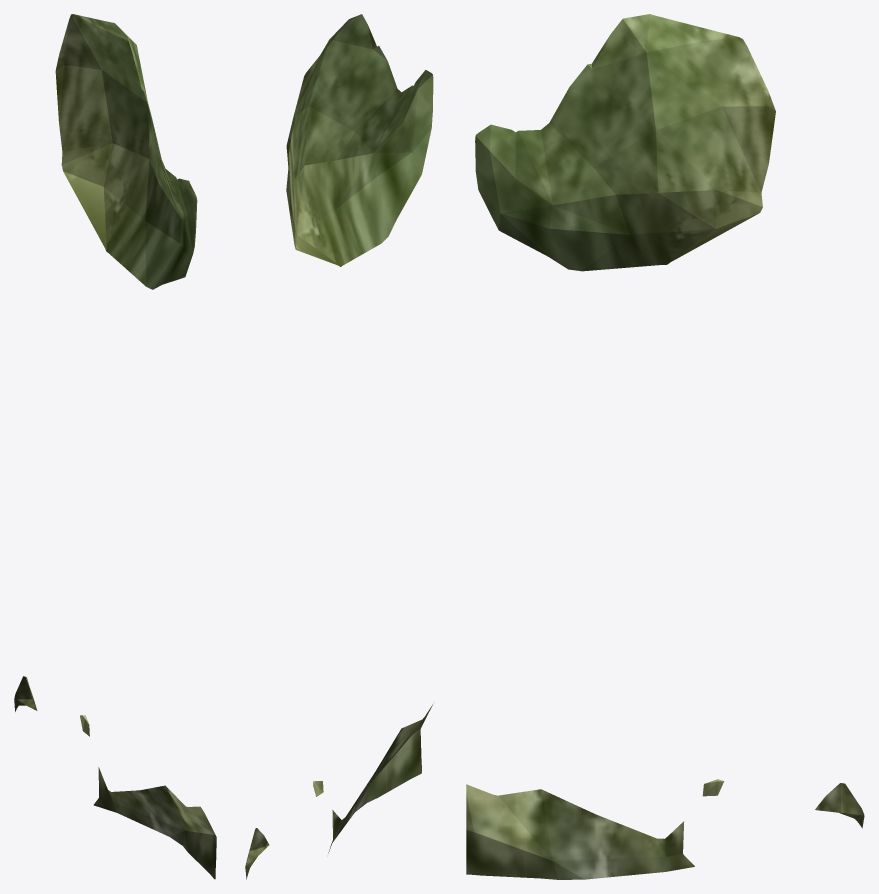
3 views of the same model, side by side, from view 1: azimuth 30°, elevation 25°; view 2: azimuth 150°, elevation 25°; view 3: azimuth 270°, elevation 25° (orthographic). The views are drawn at different scales.
Bounding box in the file's own units: 0.1478 × 2.91 × 1.23.
Materials: 1 (1 with a texture image).
